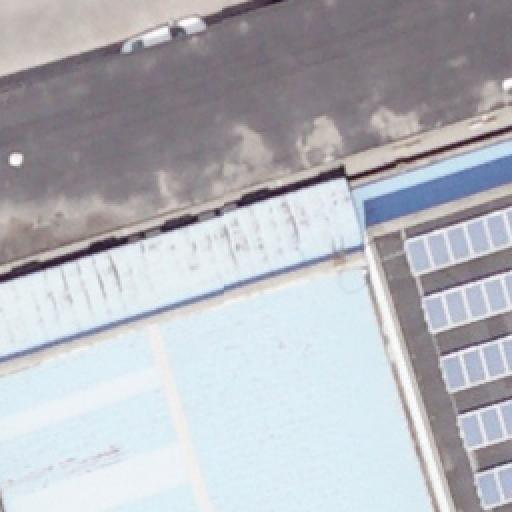solar-panel: (404, 205, 512, 275), (420, 270, 512, 334), (440, 334, 512, 394), (456, 397, 512, 451), (472, 461, 512, 507)
